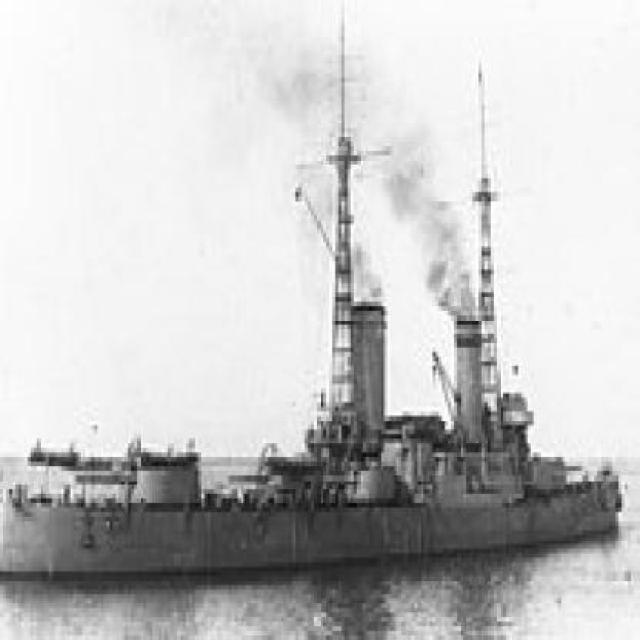warship2: (4, 1, 630, 596)
